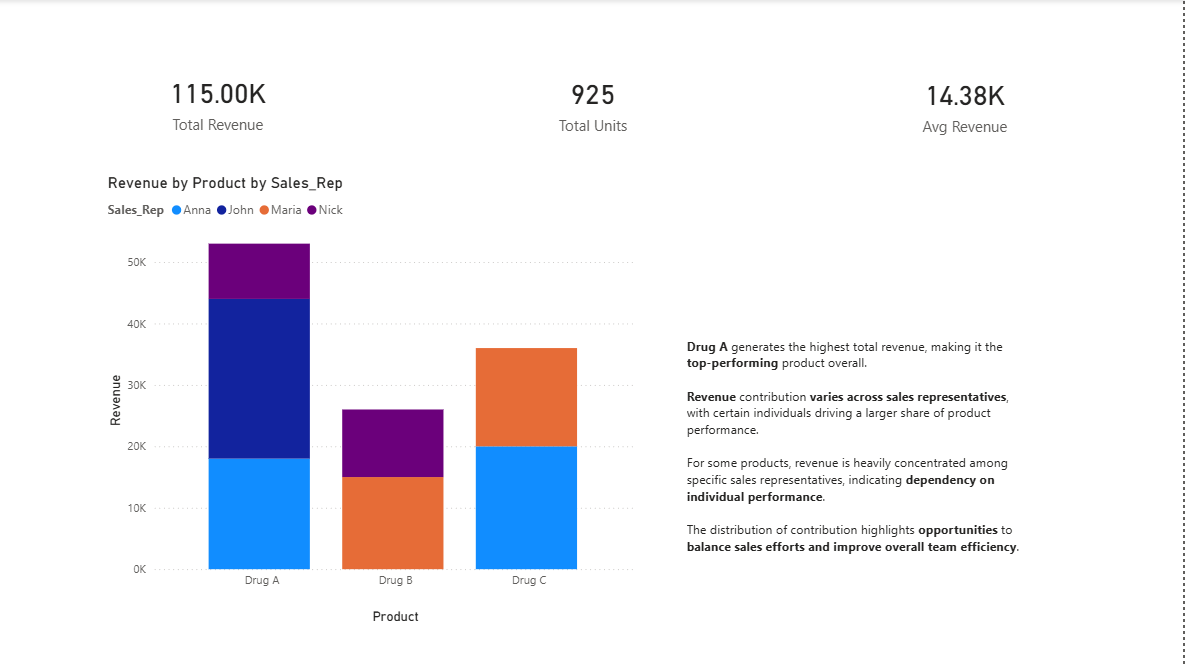

This screenshot's page, from the dashboard's own definition file:
{"tool":"powerbi","page":{"name":"Page 2","canvas":[1280,720],"ordinal":1},"visuals":[{"type":"columnChart","title":"Revenue by Product by Sales_Rep","fields":{"Category":["pharma_sales.Product","pharma_sales.Product Hierarchy.Product"],"Y":["Sum(pharma_sales.Revenue)"],"Series":["pharma_sales.Sales_Rep"]},"box":[113.4,187.1,580.2,491.3],"z":0},{"type":"card","fields":{"Values":["pharma_sales.Total Revenue"]},"box":[0,36,474,150],"z":1000},{"type":"card","fields":{"Values":["pharma_sales.Total Units"]},"box":[404.4,37.8,474.3,149.3],"z":2000},{"type":"card","fields":{"Values":["pharma_sales.Avg Revenue"]},"box":[806,38,474,150],"z":3000},{"type":"textbox","box":[738.9,359.1,374.2,309.9],"z":3001}]}

Visuals, with their boxes in screenshot pixels (x1, y1, x2, y2), scaled from the page's 1280x720 canvas onto the 1185x665 screenshot:
"Revenue by Product by Sales_Rep" columnChart: 105 173 642 627
card - pharma_sales.Total Revenue: 0 33 439 172
card - pharma_sales.Total Units: 374 35 813 173
card - pharma_sales.Avg Revenue: 746 35 1184 174
textbox: 684 332 1030 618
